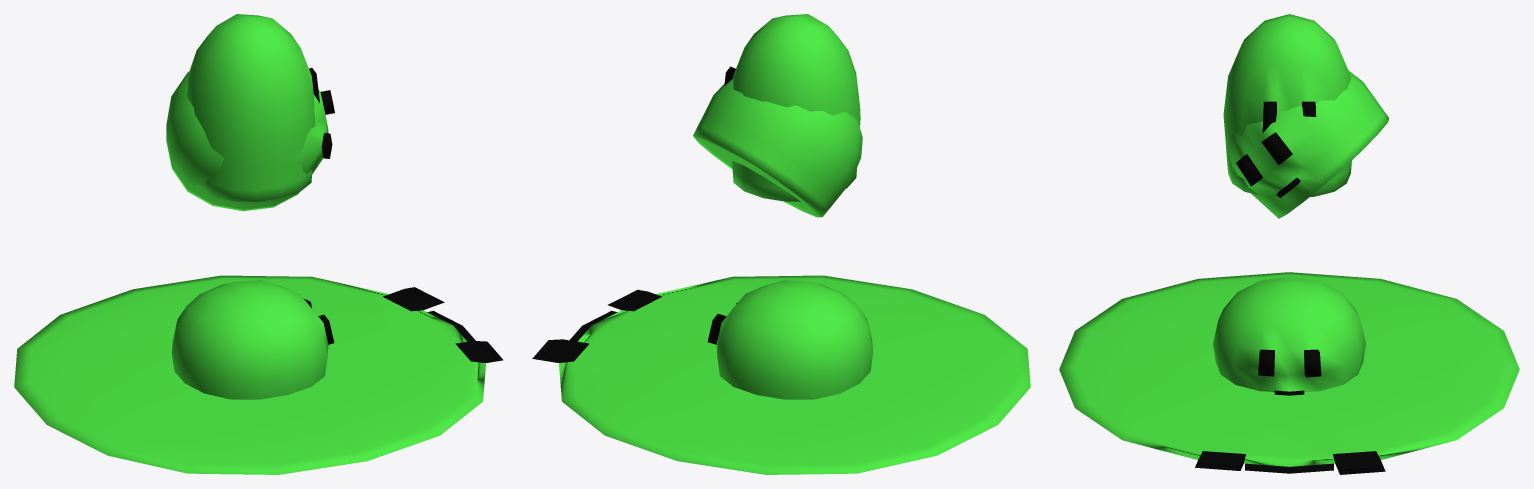
The model's file is SlimePackv2.fbx.
3 renders of one model, left to right at view 1: azimuth 30°, elevation 25°; view 2: azimuth 150°, elevation 25°; view 3: azimuth 270°, elevation 25°, orthographic.
Visible parts, largest first — view 1: Death, Walking, Idle, Stun; view 2: Death, Idle, Stun, Walking; view 3: Death, Idle, Stun, Walking.
Boxes of the visible parts, x1=… form: Death: x1=14, y1=275, x2=503, y2=474; Walking: x1=187, y1=14, x2=319, y2=201; Idle: x1=171, y1=280, x2=334, y2=399; Stun: x1=166, y1=71, x2=334, y2=211; Death: x1=532, y1=275, x2=1030, y2=474; Idle: x1=707, y1=280, x2=873, y2=399; Stun: x1=693, y1=79, x2=862, y2=217; Walking: x1=724, y1=14, x2=860, y2=201; Death: x1=1059, y1=272, x2=1519, y2=474; Idle: x1=1213, y1=276, x2=1365, y2=395; Stun: x1=1227, y1=70, x2=1389, y2=218; Walking: x1=1223, y1=14, x2=1351, y2=196.
Bounding box in the file's own units: 888 × 737 × 852.
